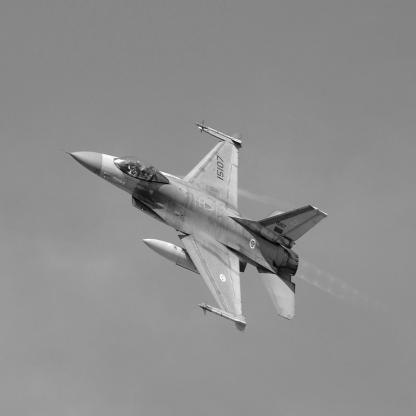F16: (61, 120, 329, 334)
